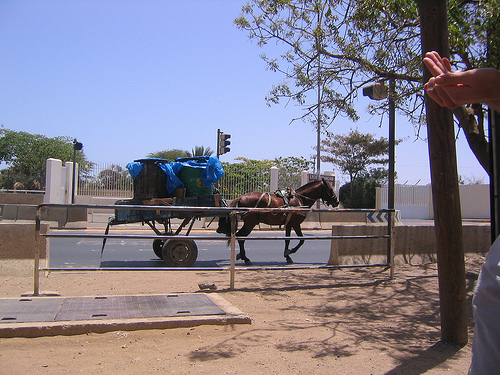horse: (225, 178, 339, 265)
